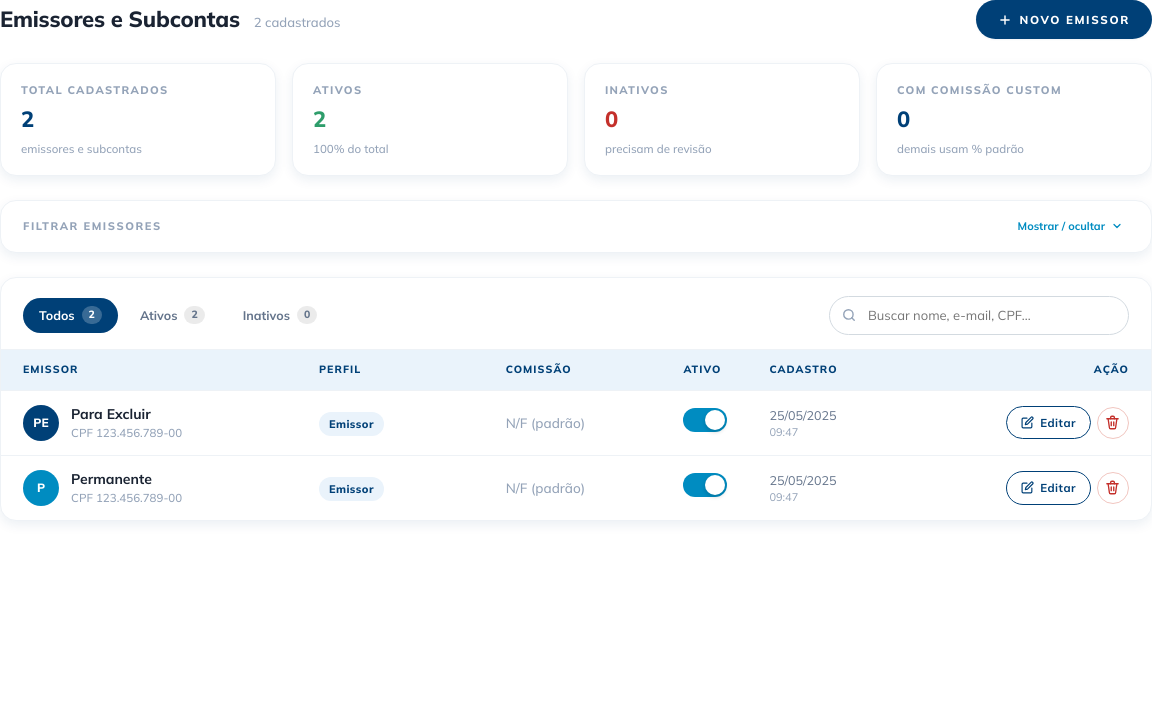
EmissoresListSection › exclusão remove item da lista e atualiza KPIs
expect the text "2 cadastrados" is shown: met, box [254,14,340,30]
Click the button named "Excluir" in the row of "Para Excluir" at coordinates (1113, 423), box [1097,407,1129,439]
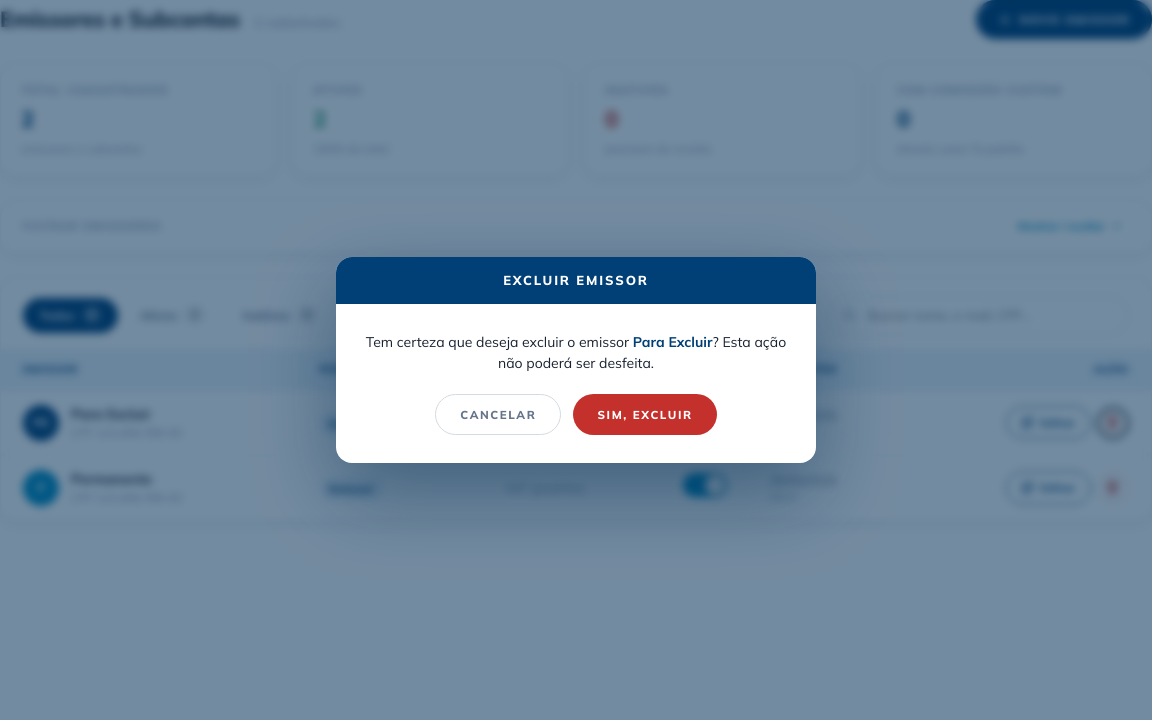
Click the button "Sim, excluir" at coordinates (645, 415), box [573,394,717,435]
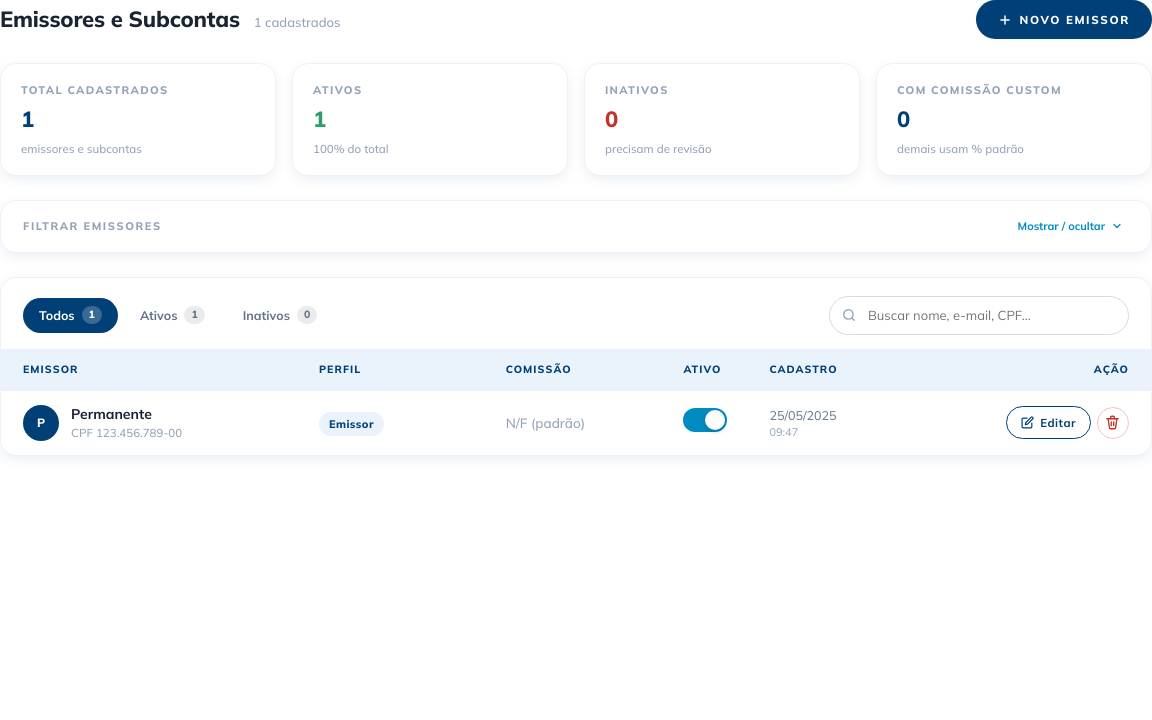
expect the text "Para Excluir" is gone: met
expect the text "1 cadastrados" is shown: met, box [254,14,340,30]
